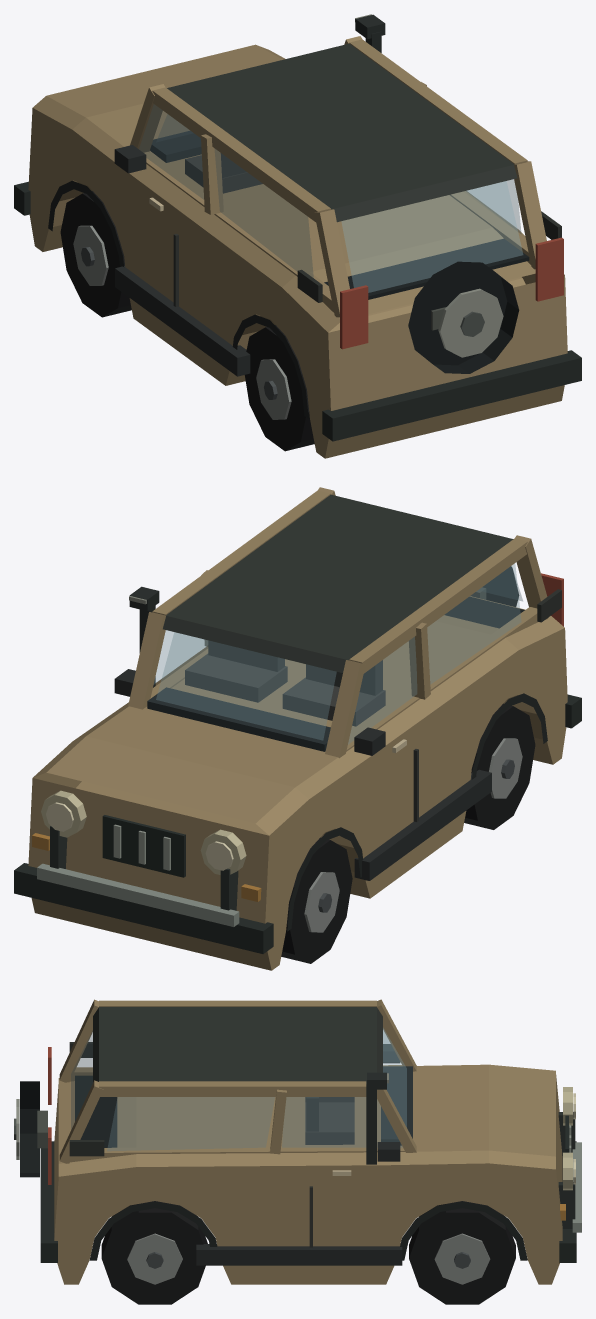
The model's file is tout_terrain.glb.
The picture shows the model from 3 angles, top to bottom: view 1: azimuth 30°, elevation 25°; view 2: azimuth 150°, elevation 25°; view 3: azimuth 270°, elevation 25°; orthographic projection. The views are drawn at different scales.
Visible parts, largest first — view 1: proposition_tout_terrain_sable; view 2: proposition_tout_terrain_sable; view 3: proposition_tout_terrain_sable.
Boxes of the visible parts, x1,y1,x2,y2 form: proposition_tout_terrain_sable: (14, 14, 581, 458); proposition_tout_terrain_sable: (14, 487, 581, 970); proposition_tout_terrain_sable: (14, 999, 581, 1304).
Size of the model in its own units: 1.87 by 1.88 by 4.25.
